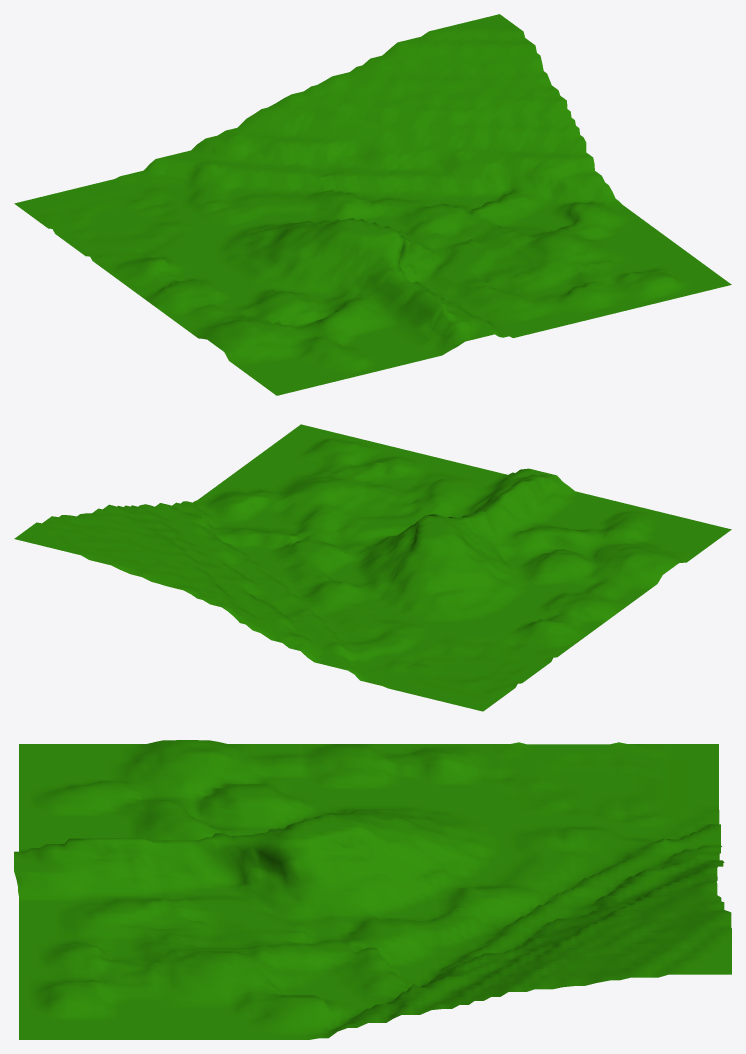
File: TestMaps.fbx
The picture shows the model from 3 angles, top to bottom: view 1: azimuth 30°, elevation 25°; view 2: azimuth 150°, elevation 25°; view 3: azimuth 270°, elevation 25°; orthographic projection. The views are drawn at different scales.
Parts seen in each view (by area): view 1: Plane; view 2: Plane; view 3: Plane.
Boxes of the visible parts, x1,y1,x2,y2 form: Plane: (14,14,731,395); Plane: (14,424,731,711); Plane: (14,740,731,1039).
Size of the model in its own units: 810 by 108 by 771.
